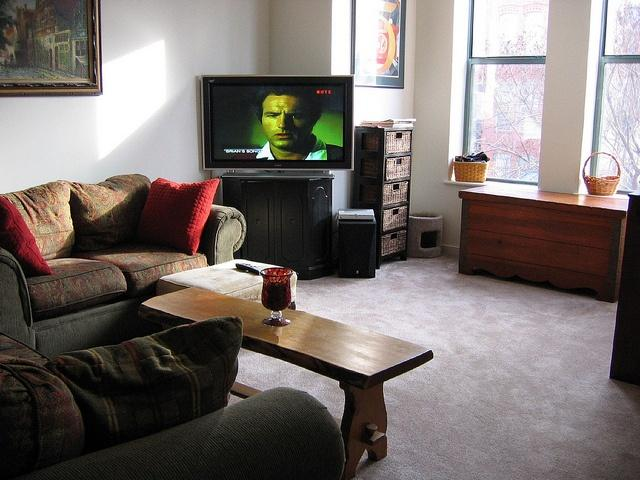AIO PC-Monitor-TV: (198, 73, 355, 177)
